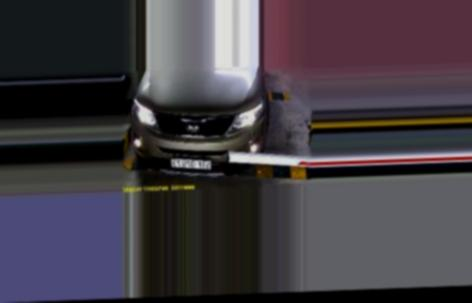License_Plate: (172, 157, 210, 172)
